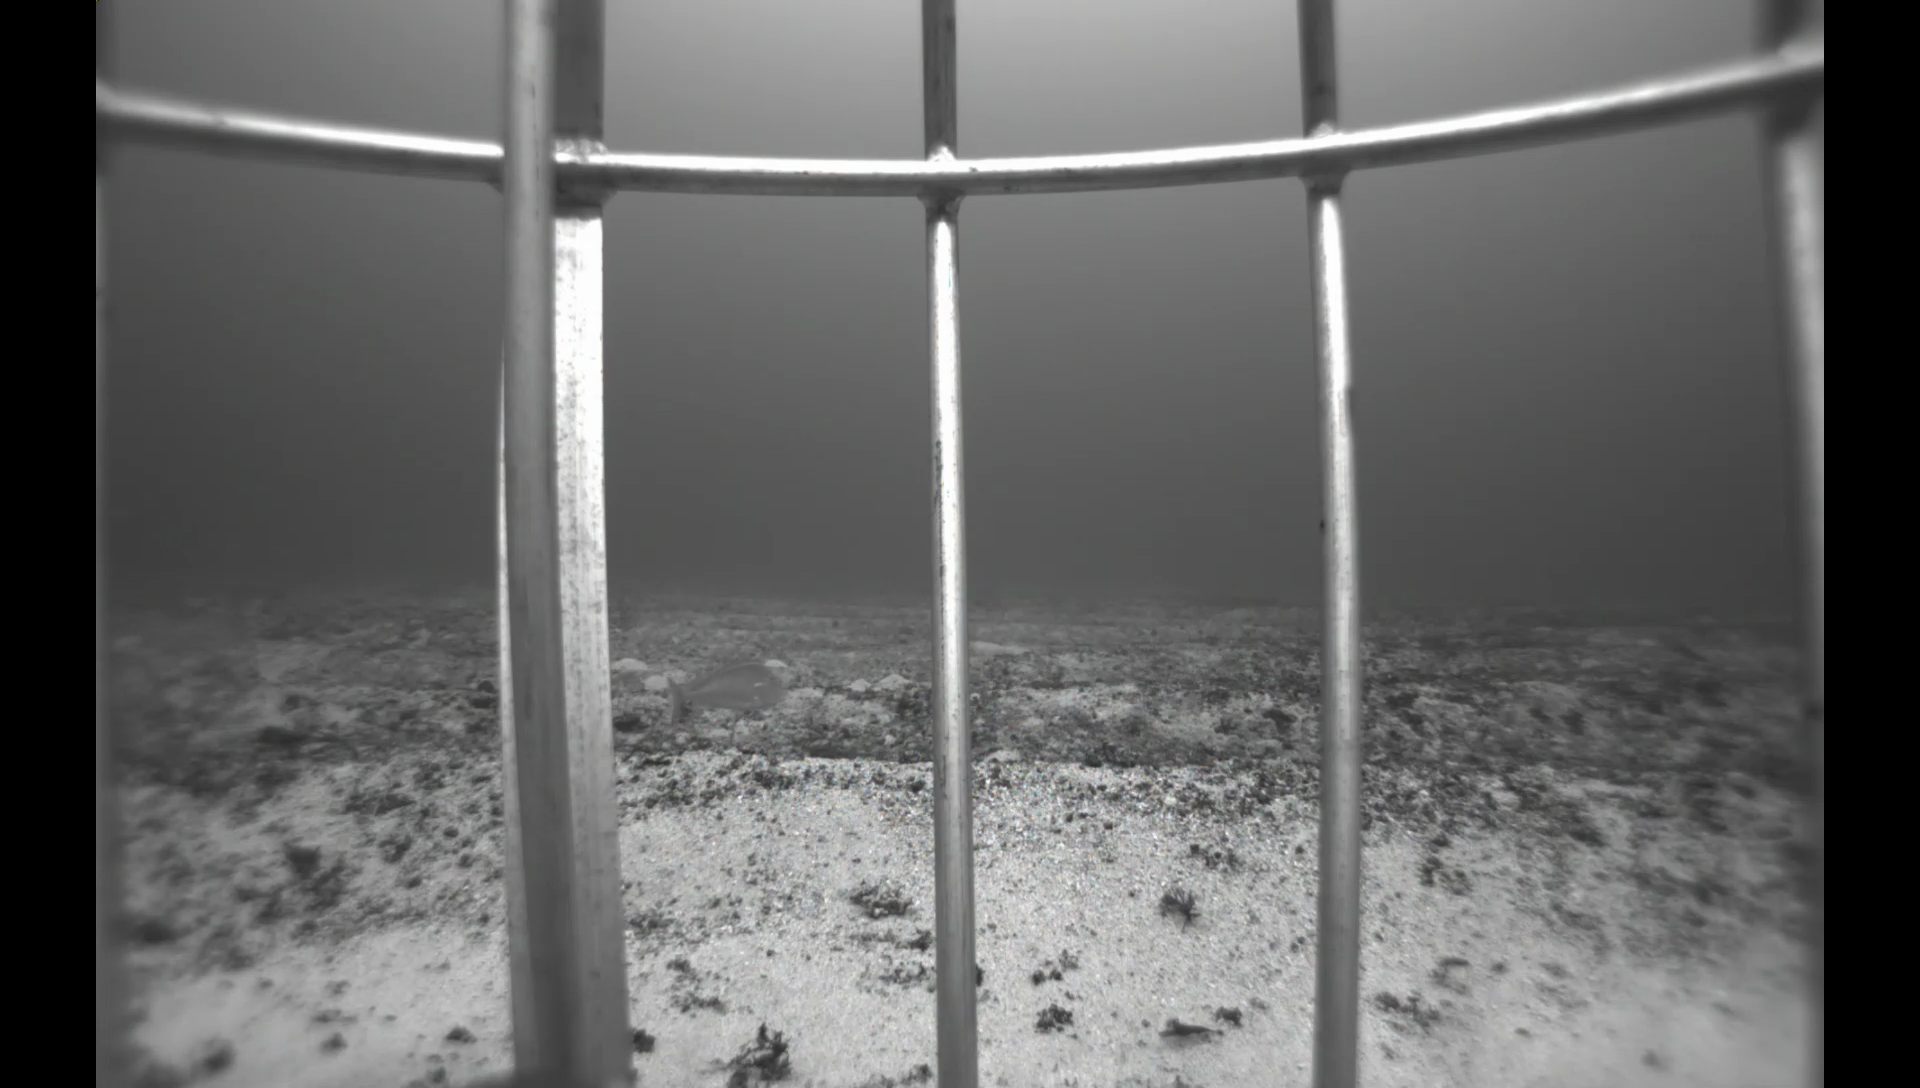CALAMUSPRORIDENS-170210605: (654, 659, 790, 736), (141, 600, 264, 665)
